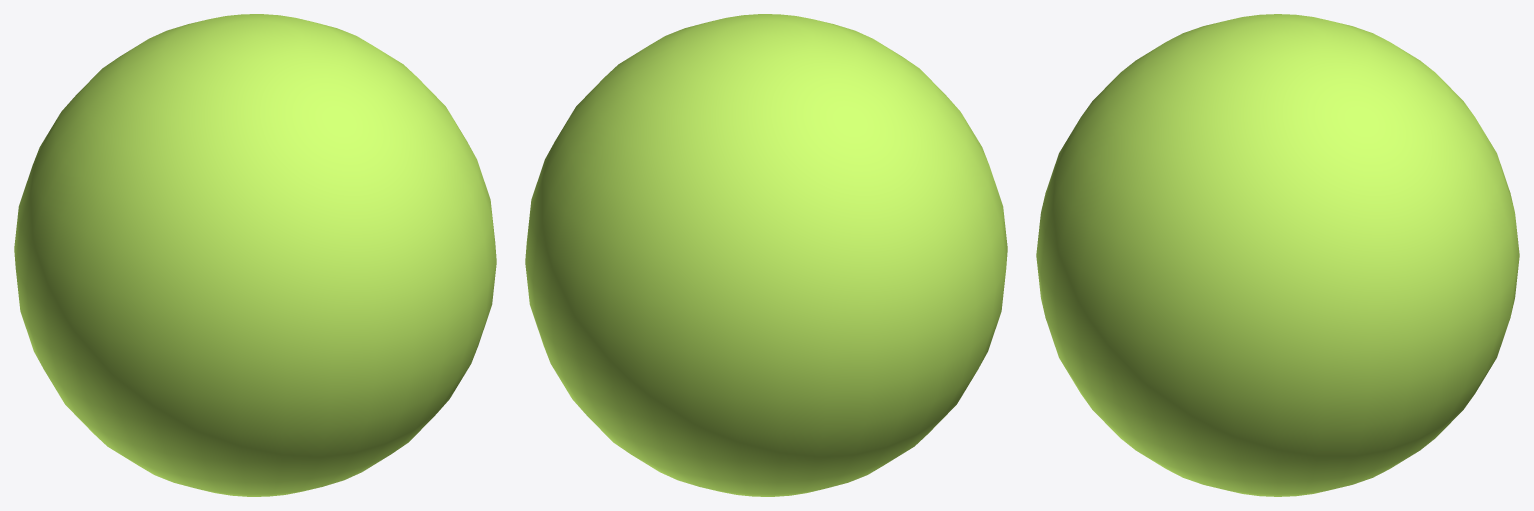
Rendered from sniper-rifle-pickup.glb.
3 renders of one model, left to right at view 1: azimuth 30°, elevation 25°; view 2: azimuth 150°, elevation 25°; view 3: azimuth 270°, elevation 25°, orthographic.
Parts seen in each view (by area): view 1: Pickup_Bubble.006; view 2: Pickup_Bubble.006; view 3: Pickup_Bubble.006.
Boxes of the visible parts, x1,y1,x2,y2 form: Pickup_Bubble.006: [14, 14, 496, 496]; Pickup_Bubble.006: [525, 14, 1007, 496]; Pickup_Bubble.006: [1036, 14, 1519, 496].
Size of the model in its own units: 1 by 1 by 1.
